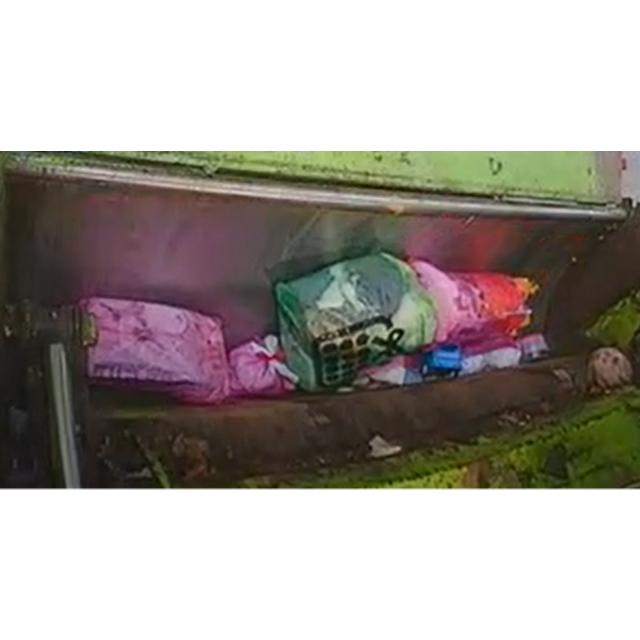general_trashbag: (275, 251, 436, 391)
other_trashbag: (80, 296, 230, 402), (410, 260, 538, 354)
